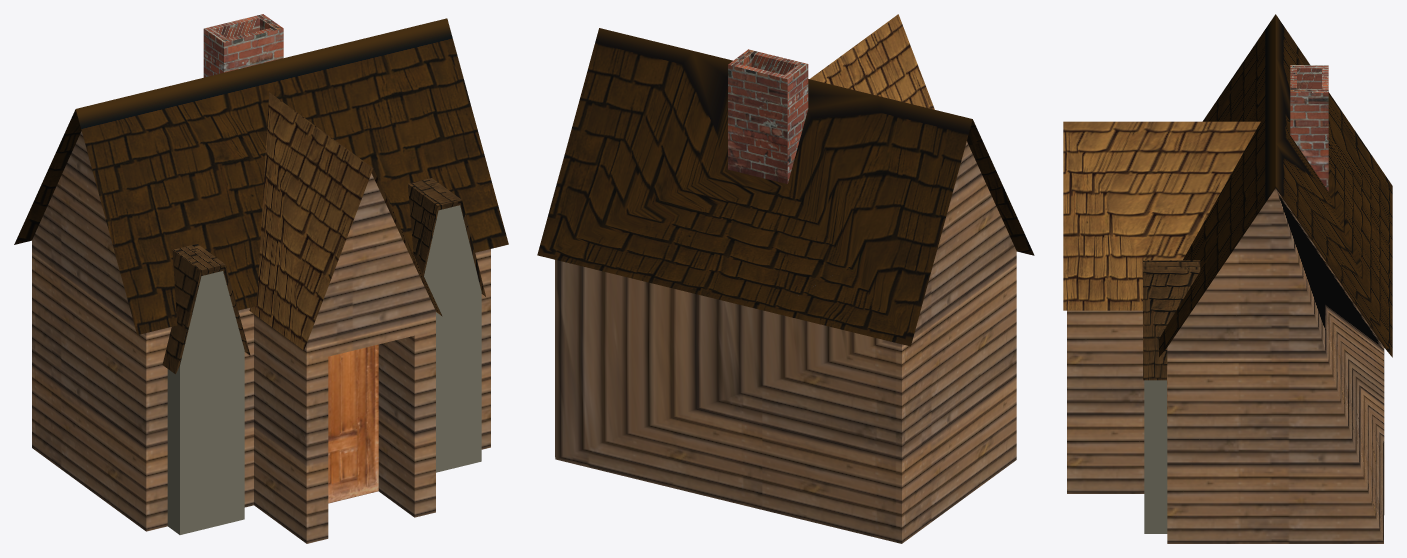
File: house1.fbx
The picture shows the model from 3 angles, left to right: view 1: azimuth 30°, elevation 25°; view 2: azimuth 150°, elevation 25°; view 3: azimuth 270°, elevation 25°; orthographic projection. The views are drawn at different scales.
Parts seen in each view (by area): view 1: Cube; view 2: Cube; view 3: Cube.
Part boxes in pixels (<box>): Cube: <box>14,14,508,543</box>; Cube: <box>537,14,1034,543</box>; Cube: <box>1063,14,1392,543</box>.
Bounding box in the file's own units: 1126 × 1177 × 911.
